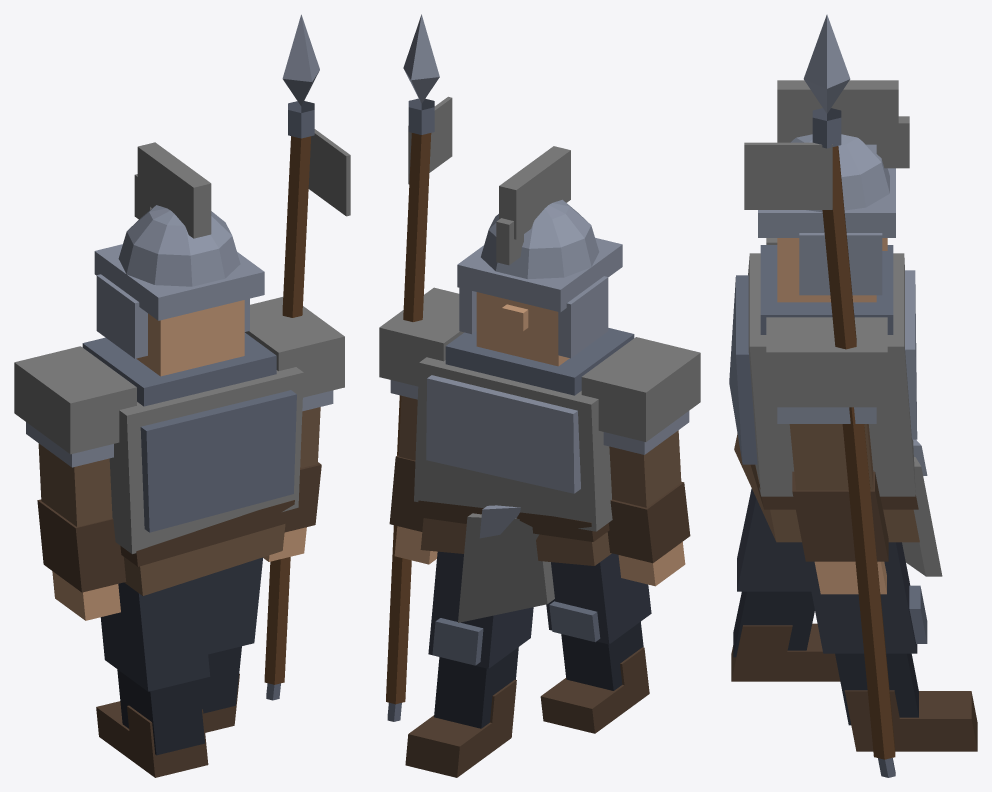
File: infantry-walk-5.obj
The picture shows the model from 3 angles, left to right: view 1: azimuth 30°, elevation 25°; view 2: azimuth 150°, elevation 25°; view 3: azimuth 270°, elevation 25°; orthographic projection. The views are drawn at different scales.
Visible parts, largest first — view 1: infantry-walk-5; view 2: infantry-walk-5; view 3: infantry-walk-5.
Boxes of the visible parts, bbox=[...] form: infantry-walk-5: bbox=[14, 14, 350, 777]; infantry-walk-5: bbox=[379, 14, 700, 777]; infantry-walk-5: bbox=[729, 14, 977, 777].
Bounding box in the file's own units: 1.25 × 3.06 × 0.9006.
